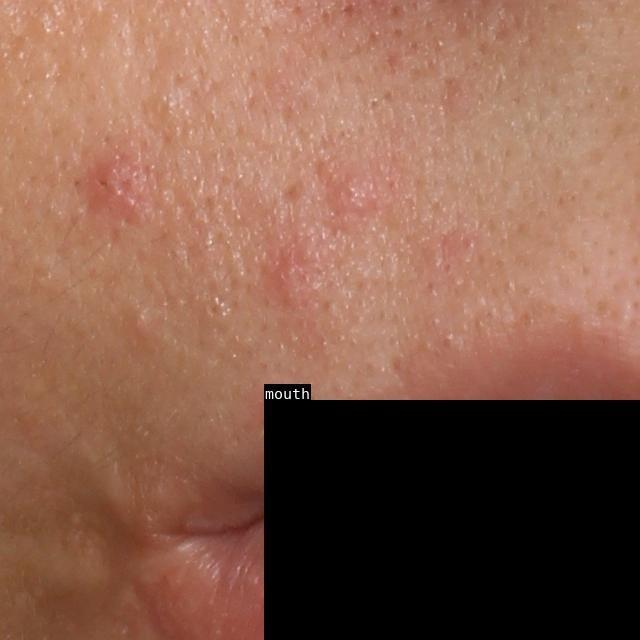comedo: (145, 83, 193, 126), (127, 306, 153, 335)
papule: (261, 246, 316, 325), (93, 158, 155, 217), (326, 173, 375, 219)
